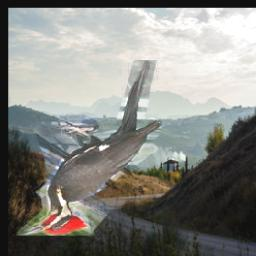Woodpecker: (18, 61, 163, 237)
